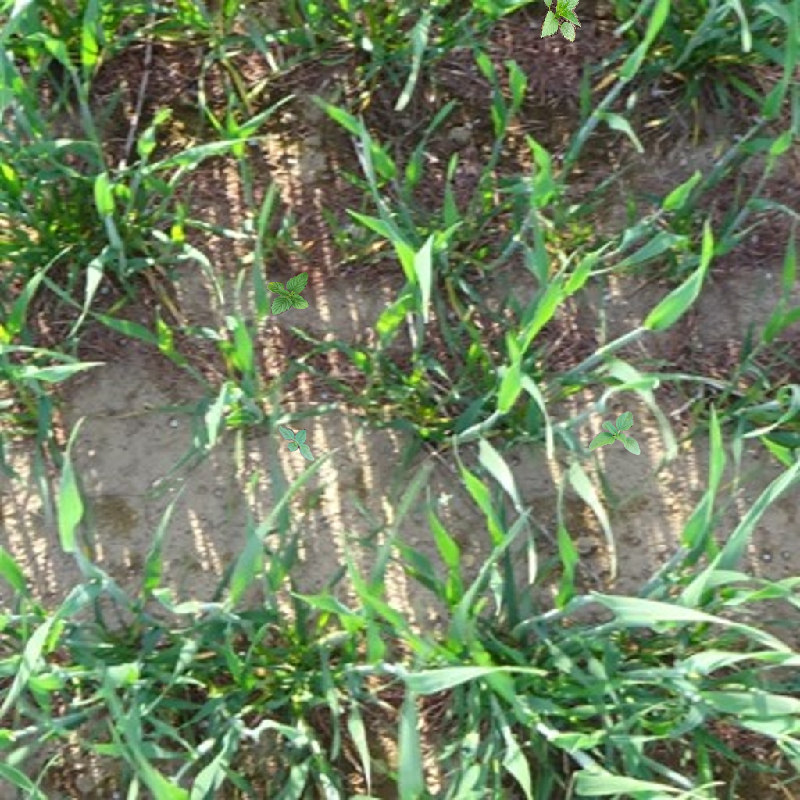weed: (589, 411, 641, 455), (267, 272, 309, 315), (539, 1, 581, 43), (278, 425, 315, 461)
